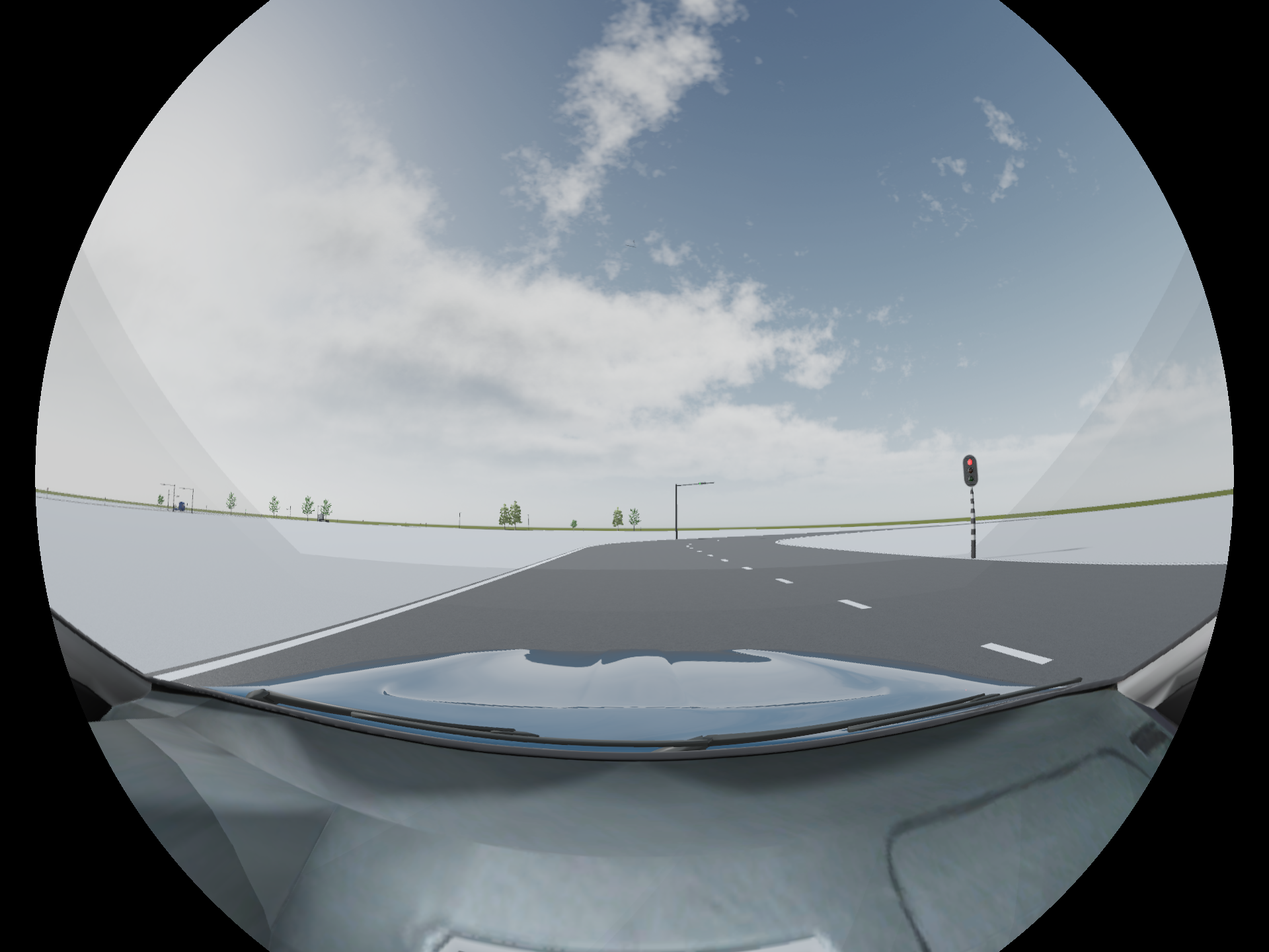Red Light: (963, 454, 979, 485)
